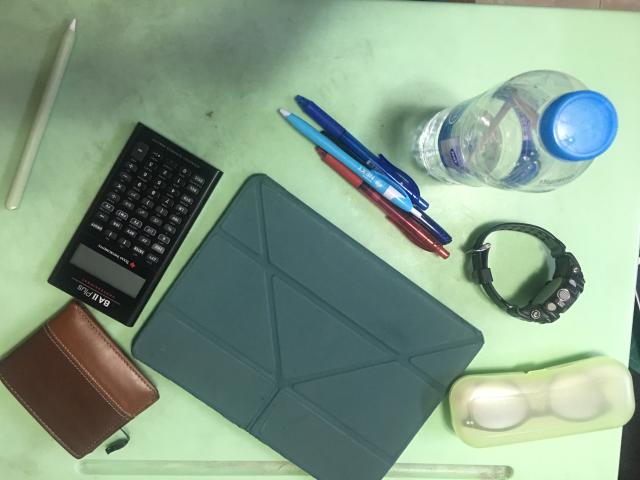Glasses: (450, 356, 635, 448)
Pen: (279, 97, 450, 259)
Wallet: (0, 300, 159, 459)
Watch: (471, 222, 585, 324)
bottle: (415, 70, 618, 192)
